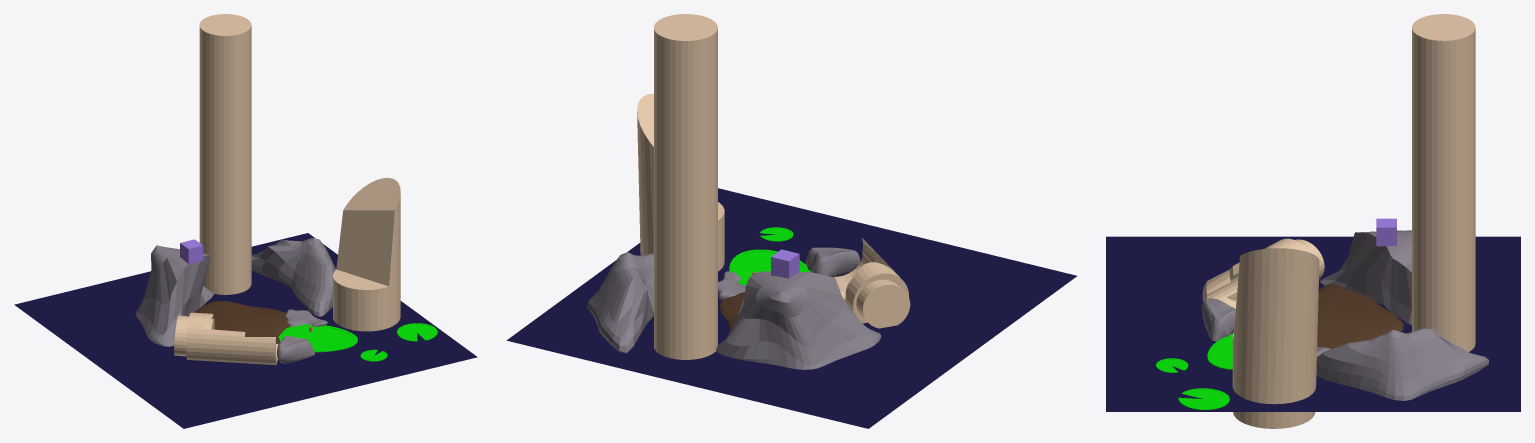
The model's file is Laurence_MapBlockOut_V1.fbx.
3 renders of one model, left to right at view 1: azimuth 30°, elevation 25°; view 2: azimuth 150°, elevation 25°; view 3: azimuth 270°, elevation 25°, orthographic. The views are drawn at different scales.
Parts seen in each view (by area): view 1: PondFloor, Tree, Tree.001, Rock.001, Rock, Log, Dirt, Lilypad, Stone, LogPlug, Lilypad.001, Stone.001 (+1 smaller); view 2: PondFloor, Tree, Rock.001, Rock, Tree.001, LogPlug, Log, Stone, Lilypad, Boss, Stone.001, Dirt; view 3: PondFloor, Tree, Tree.001, Rock, Rock.001, Dirt, Log, Stone, Lilypad.001, Lilypad, Boss.
Part boxes in pixels (<box>): PondFloor: <box>14,233,477,428</box>; Tree: <box>199,14,251,294</box>; Tree.001: <box>333,177,400,331</box>; Rock.001: <box>135,245,213,346</box>; Rock: <box>251,238,335,316</box>; Log: <box>186,312,278,365</box>; Dirt: <box>195,300,290,344</box>; Lilypad: <box>278,324,357,352</box>; Stone: <box>277,335,314,363</box>; LogPlug: <box>174,315,214,356</box>; Lilypad.001: <box>397,323,437,341</box>; Stone.001: <box>285,309,327,326</box>; PondFloor: <box>506,188,1076,428</box>; Tree: <box>654,14,717,359</box>; Rock.001: <box>716,271,881,369</box>; Rock: <box>586,252,653,353</box>; Tree.001: <box>637,93,724,271</box>; LogPlug: <box>845,279,910,328</box>; Log: <box>834,238,909,323</box>; Stone: <box>805,247,860,277</box>; Lilypad: <box>729,249,810,285</box>; Boss: <box>771,249,799,278</box>; Stone.001: <box>718,271,745,299</box>; Dirt: <box>719,292,744,332</box>; PondFloor: <box>1106,236,1520,411</box>; Tree: <box>1412,14,1475,351</box>; Tree.001: <box>1232,248,1319,428</box>; Rock: <box>1316,328,1489,400</box>; Rock.001: <box>1320,230,1411,325</box>; Dirt: <box>1317,283,1403,348</box>; Log: <box>1202,238,1309,308</box>; Stone: <box>1202,298,1235,341</box>; Lilypad.001: <box>1178,388,1229,409</box>; Lilypad: <box>1207,333,1232,369</box>; Boss: <box>1376,218,1396,246</box>.
Bounding box in the file's own units: 28042 × 28042 × 25898.
